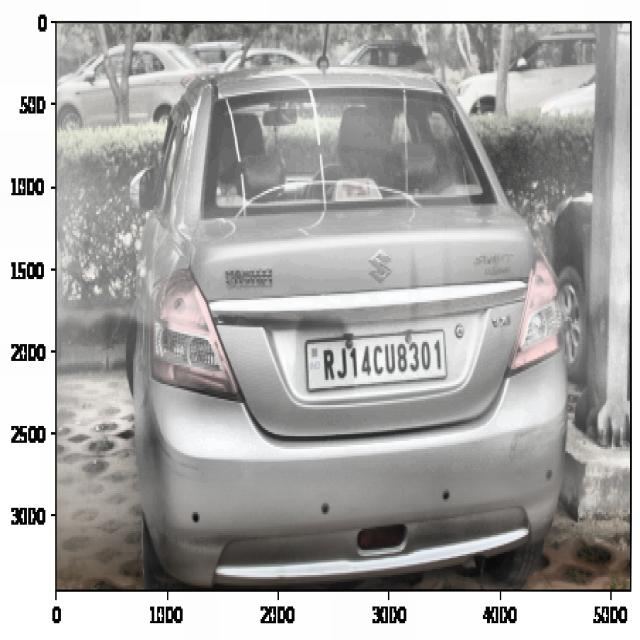license_plate: (312, 336, 448, 384)
